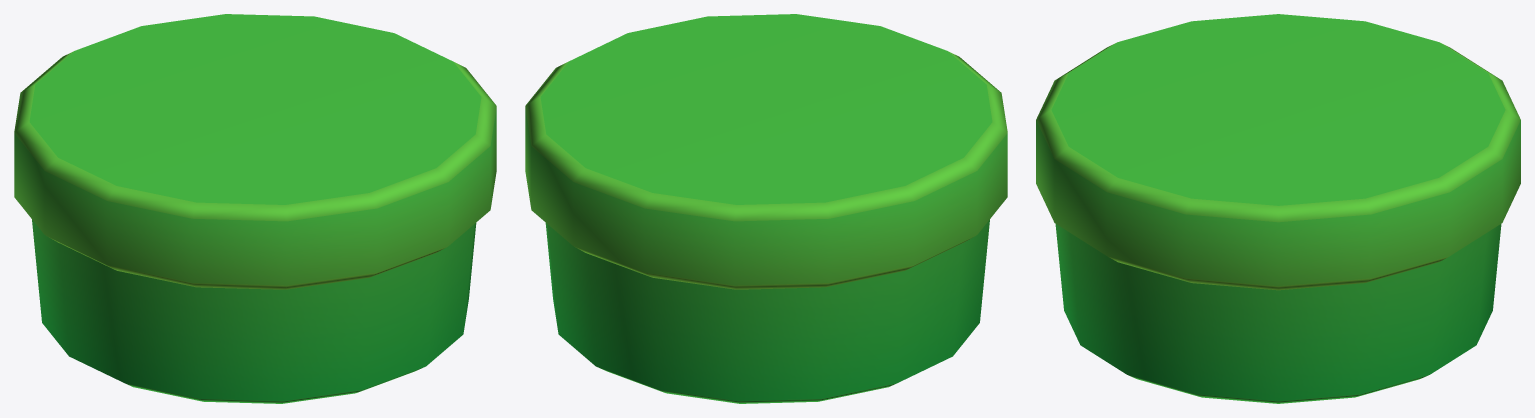
File: giftbox_030.fbx
The picture shows the model from 3 angles, left to right: view 1: azimuth 30°, elevation 25°; view 2: azimuth 150°, elevation 25°; view 3: azimuth 270°, elevation 25°; orthographic projection.
Visible parts, largest first — view 1: giftbox_030; view 2: giftbox_030; view 3: giftbox_030.
Boxes of the visible parts, x1,y1,x2,y2 form: giftbox_030: (14, 14, 496, 403); giftbox_030: (525, 14, 1007, 403); giftbox_030: (1036, 14, 1520, 403).
Size of the model in its own units: 226 by 226 by 108.
